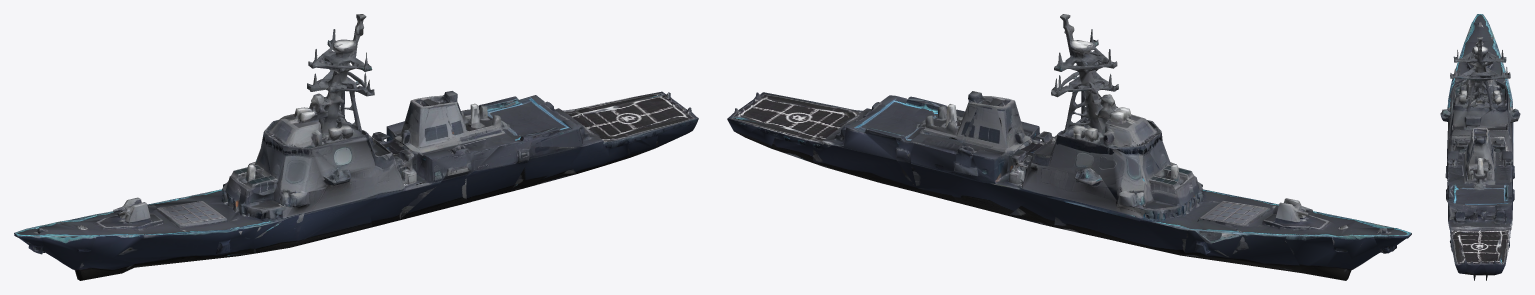
Rendered from arleigh-burke-destroyer-meshy6-web-squad-v1.glb.
3 renders of one model, left to right at view 1: azimuth 30°, elevation 25°; view 2: azimuth 150°, elevation 25°; view 3: azimuth 270°, elevation 25°, orthographic. The views are drawn at different scales.
Size of the model in its own units: 1.89 by 0.54 by 0.282.
1 material, 1 textured.
